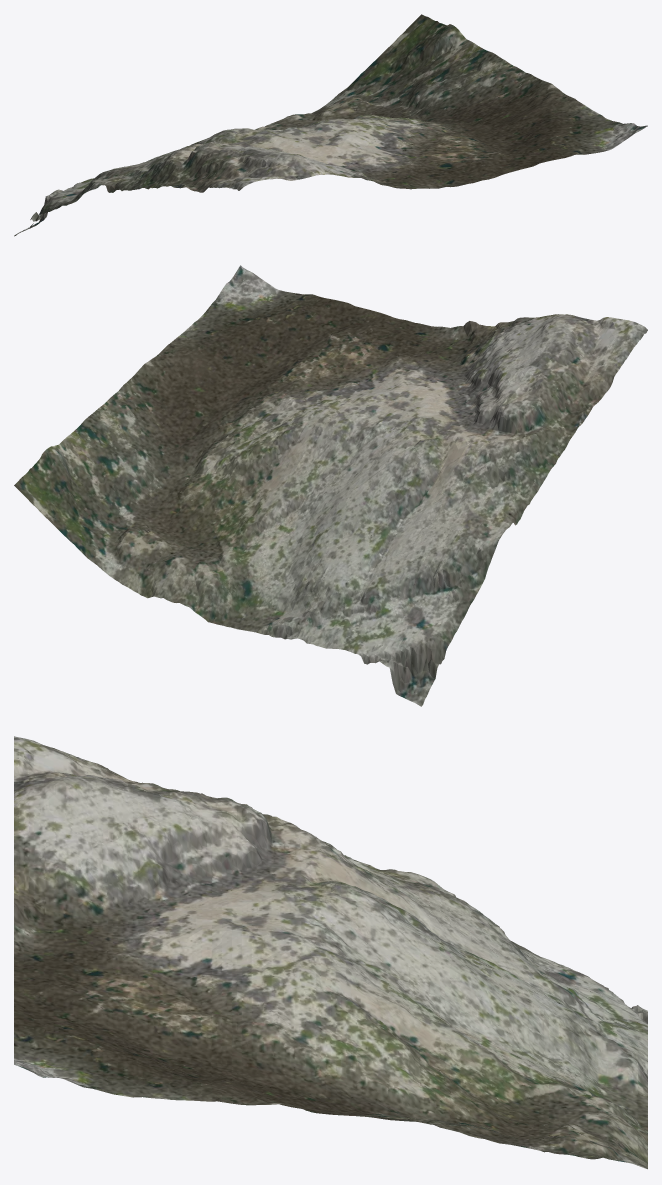
The picture shows the model from 3 angles, top to bottom: view 1: azimuth 30°, elevation 25°; view 2: azimuth 150°, elevation 25°; view 3: azimuth 270°, elevation 25°; orthographic projection. The views are drawn at different scales.
Bounding box in the file's own units: 500 × 254 × 481.
1 material, 1 textured.
